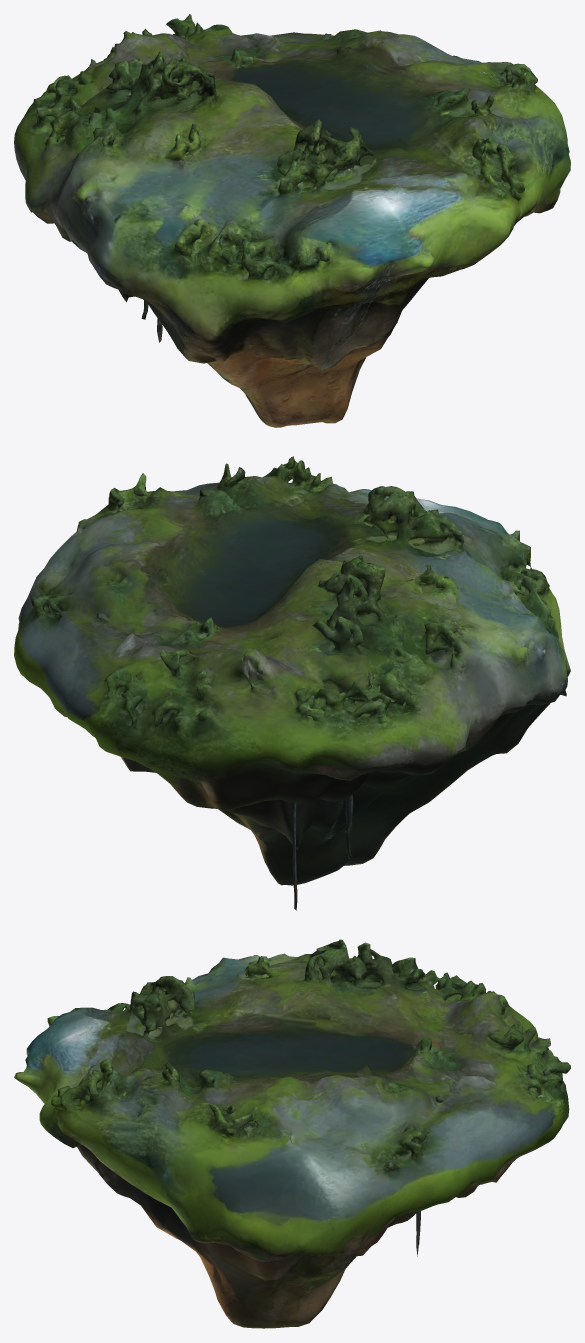
Rendered from island.glb.
The picture shows the model from 3 angles, top to bottom: view 1: azimuth 30°, elevation 25°; view 2: azimuth 150°, elevation 25°; view 3: azimuth 270°, elevation 25°; orthographic projection. The views are drawn at different scales.
Bounding box in the file's own units: 1.89 × 1.34 × 1.99.
1 material, 1 textured.
